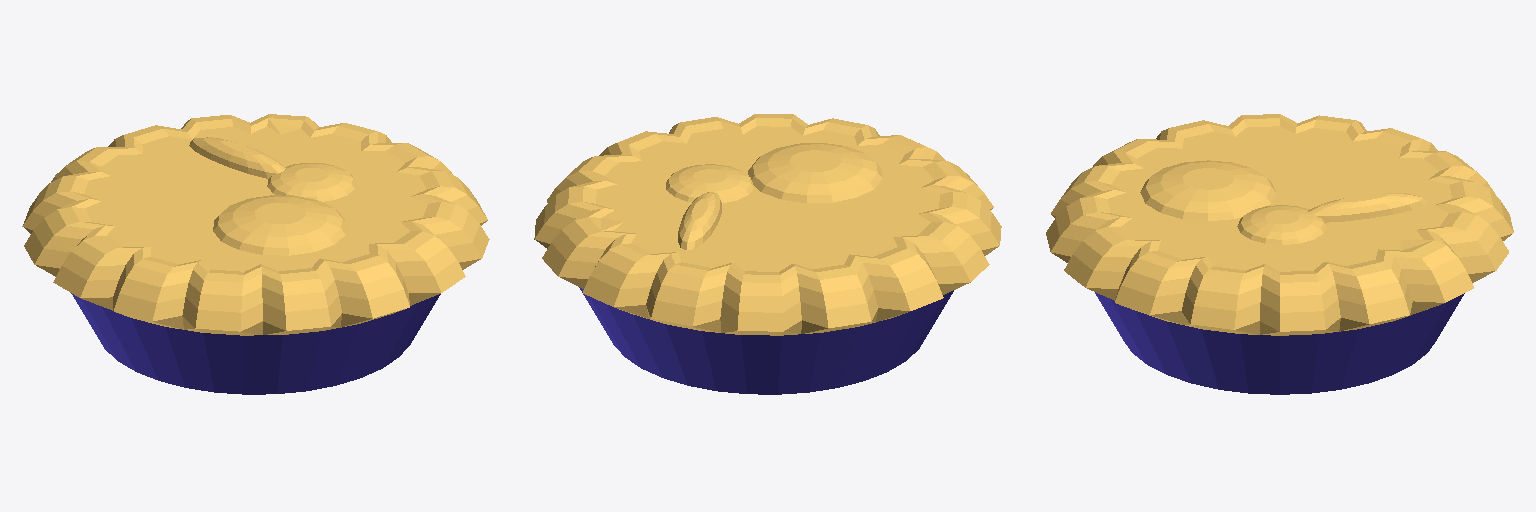
The model's file is pie.obj.
3 renders of one model, left to right at view 1: azimuth 30°, elevation 25°; view 2: azimuth 150°, elevation 25°; view 3: azimuth 270°, elevation 25°, orthographic.
Parts seen in each view (by area): view 1: cylinder1, sphere2_cut5, sphere3_cut6, sphere4_cut7; view 2: cylinder1, sphere2_cut5, sphere3_cut6, sphere4_cut7; view 3: cylinder1, sphere2_cut5, sphere3_cut6, sphere4_cut7.
Boxes of the visible parts, x1,y1,x2,y2 form: cylinder1: [22, 114, 489, 394]; sphere2_cut5: [213, 195, 347, 255]; sphere3_cut6: [267, 163, 355, 201]; sphere4_cut7: [189, 137, 285, 178]; cylinder1: [534, 114, 1001, 394]; sphere2_cut5: [748, 143, 882, 202]; sphere3_cut6: [666, 164, 754, 203]; sphere4_cut7: [678, 192, 721, 250]; cylinder1: [1046, 114, 1513, 394]; sphere2_cut5: [1140, 160, 1275, 220]; sphere3_cut6: [1237, 205, 1326, 244]; sphere4_cut7: [1308, 193, 1426, 222].
Bounding box in the file's own units: 2.88 × 0.9681 × 2.88.